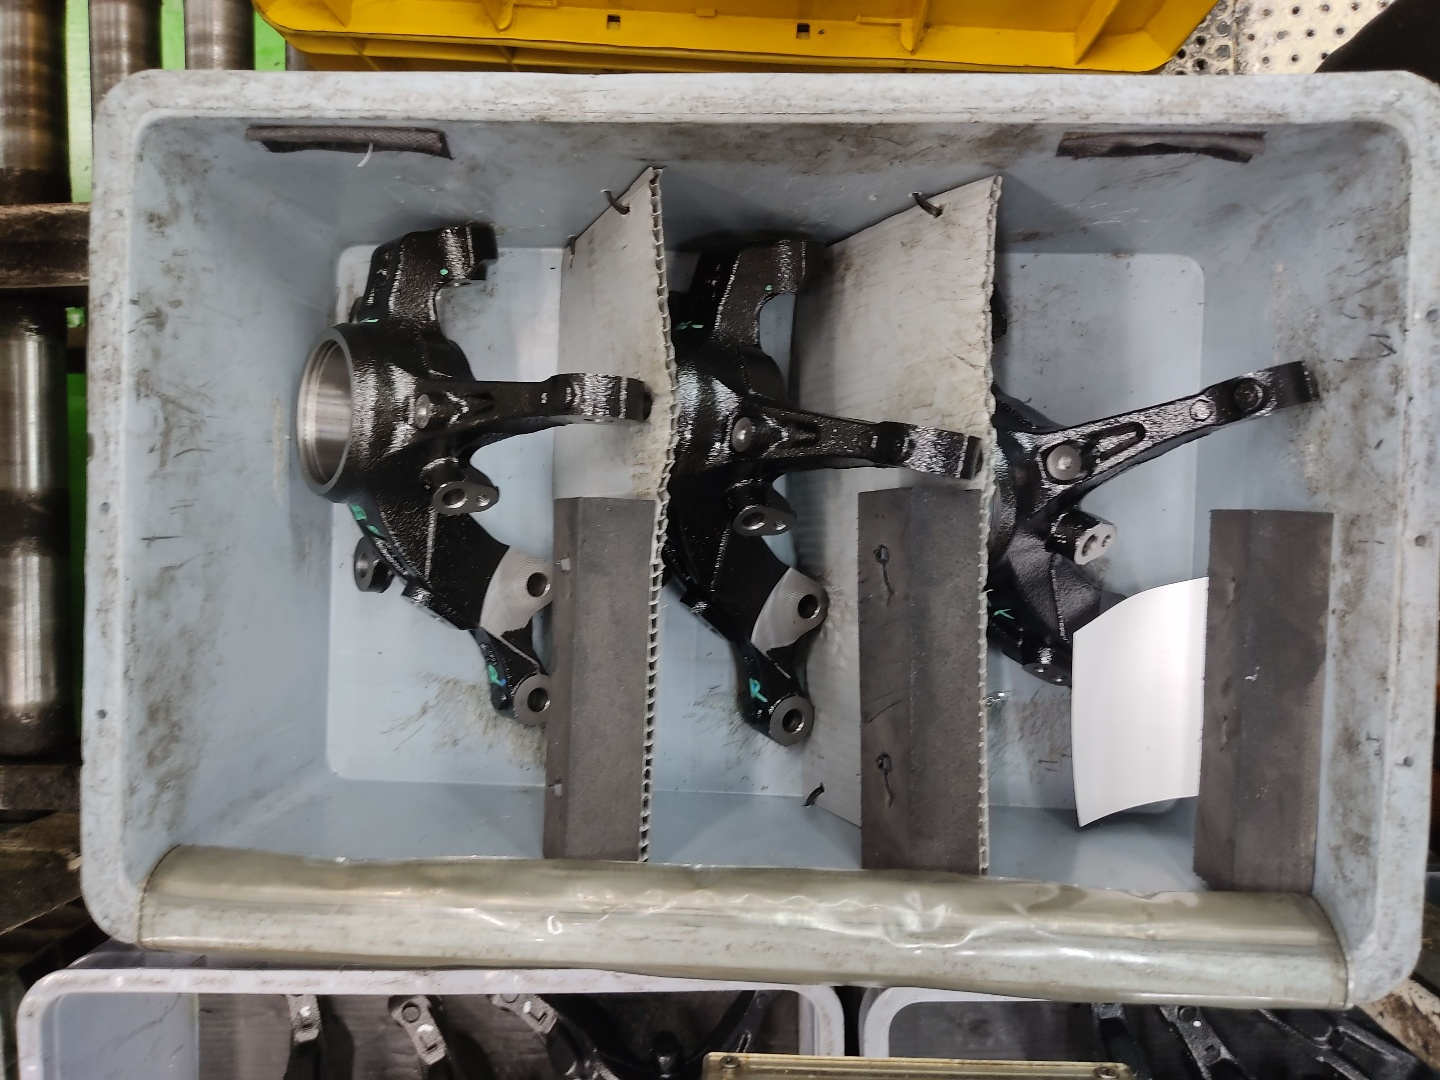abs-rh: (286, 209, 654, 734), (971, 225, 1319, 774), (658, 217, 986, 760)
